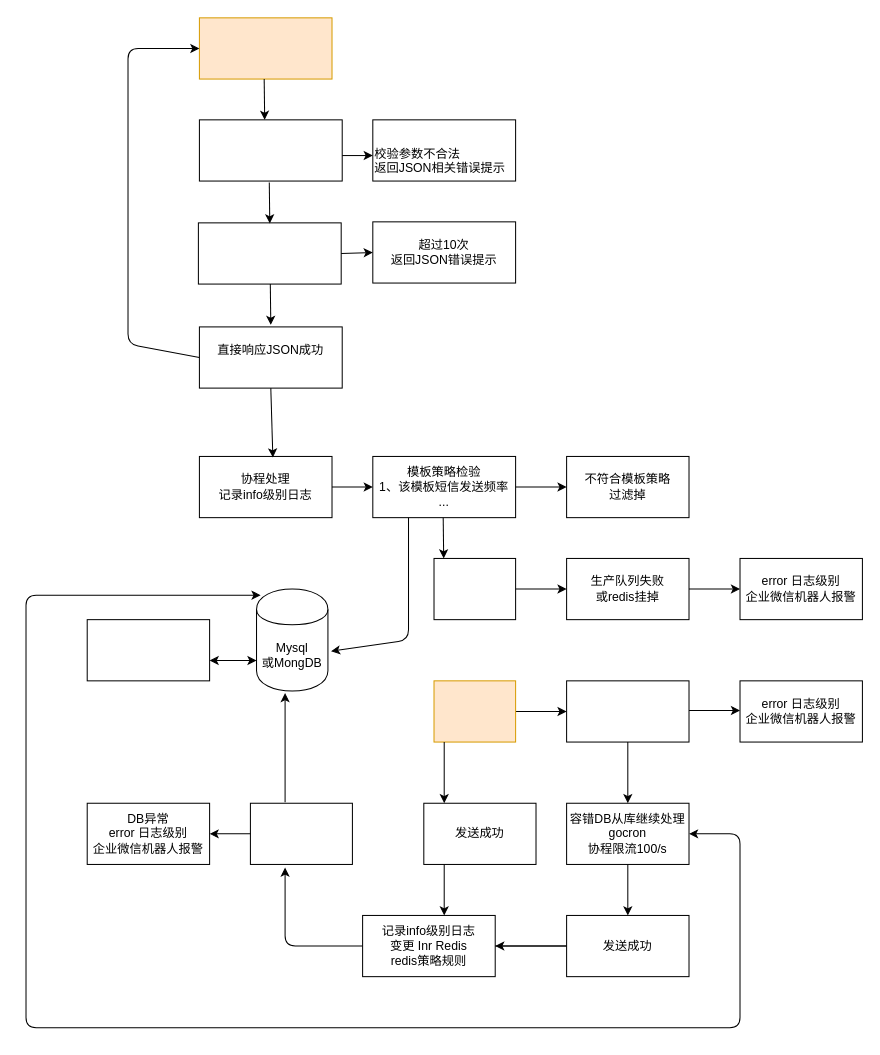
This 880x1055 diagram has some shape labels left out. Here are the shapes that lost their labels. From the top down, the box of each, then its label:
(198, 17, 332, 79): 短息Http请求/响应
(198, 119, 342, 181): 参数模板等 相关参数校验
(197, 222, 341, 284): 检索手机号24H发送次数 (Inr Redis累加存储 总次数在配置文件)
(433, 557, 516, 620): Redis List 生产队列
(86, 619, 210, 681): gocron 每1个小时 刷未同步的数据
(433, 680, 516, 742): 消费协程gocron 限流1000/s
(566, 680, 689, 742): 消费队列失败 或挂掉，无持久化
(249, 802, 352, 864): 修改DB状态
